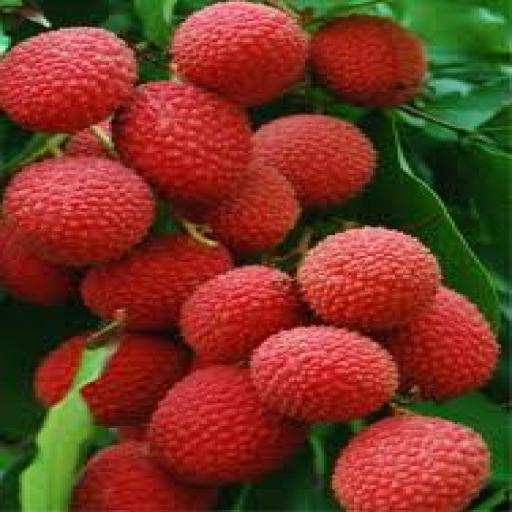lychee: (148, 365, 307, 485), (115, 83, 250, 208), (3, 157, 155, 265), (333, 415, 490, 511), (297, 228, 441, 330), (82, 235, 231, 330), (0, 27, 136, 131), (172, 2, 307, 105), (251, 327, 397, 422), (384, 289, 498, 401), (180, 266, 302, 362), (254, 115, 375, 206), (311, 16, 427, 106), (71, 442, 217, 511), (82, 333, 187, 426), (205, 161, 299, 254), (0, 224, 76, 305), (66, 121, 111, 158), (118, 425, 147, 441)
